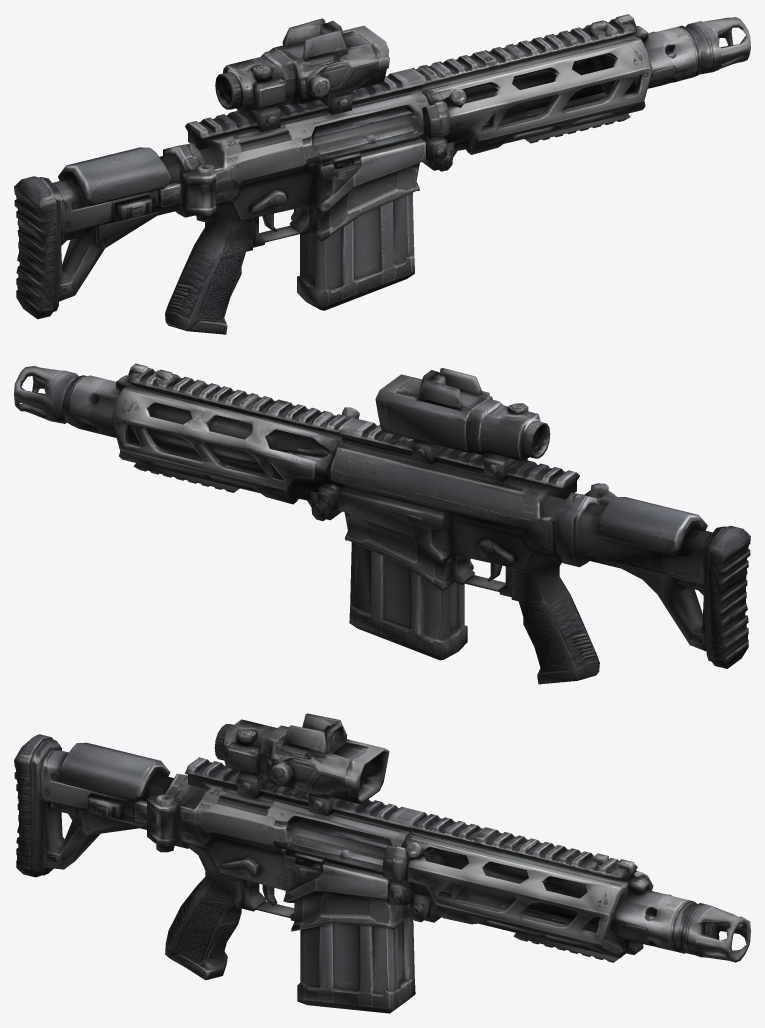
Rendered from ar12_rupture.glb.
The picture shows the model from 3 angles, top to bottom: view 1: azimuth 30°, elevation 25°; view 2: azimuth 150°, elevation 25°; view 3: azimuth 330°, elevation 25°; orthographic projection.
Visible parts, largest first — view 1: ar12_rupture; view 2: ar12_rupture; view 3: ar12_rupture.
Boxes of the visible parts, box(x1,y1,x2,y2) form: ar12_rupture: box(14, 14, 750, 334); ar12_rupture: box(14, 363, 750, 684); ar12_rupture: box(14, 713, 750, 1013).
Size of the model in its own units: 1 by 0.3699 by 0.1194.
1 material, 1 textured.
